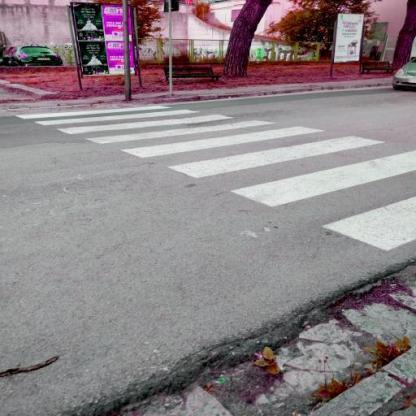crosswalk: (165, 132, 415, 214)
